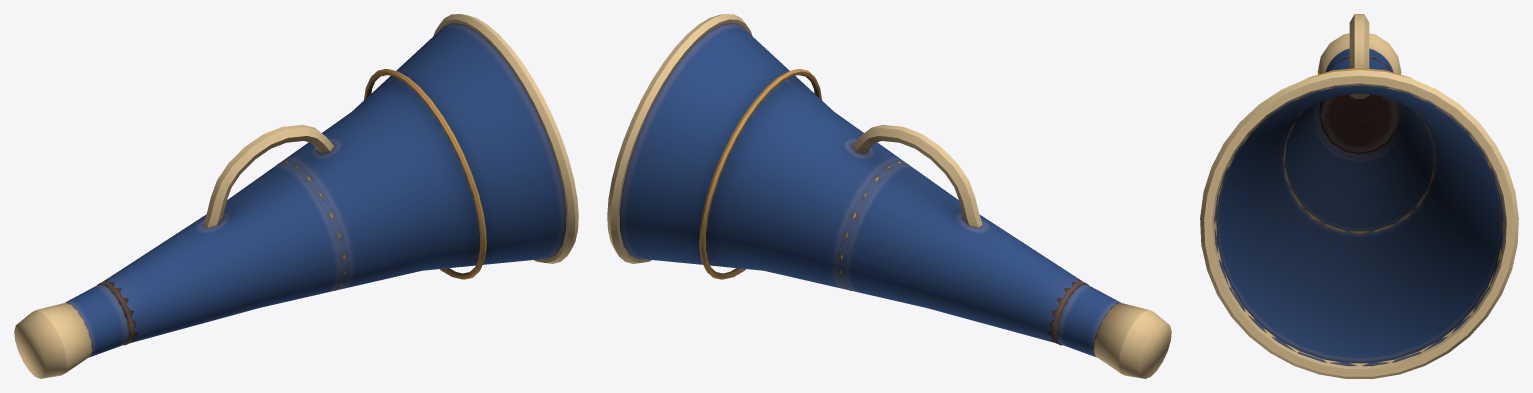
Rendered from Megaphone.fbx.
3 renders of one model, left to right at view 1: azimuth 30°, elevation 25°; view 2: azimuth 150°, elevation 25°; view 3: azimuth 270°, elevation 25°, orthographic. The views are drawn at different scales.
Visible parts, largest first — view 1: Megaphone; view 2: Megaphone; view 3: Megaphone.
Boxes of the visible parts, x1,y1,x2,y2 form: Megaphone: [14, 14, 578, 378]; Megaphone: [607, 14, 1171, 378]; Megaphone: [1200, 14, 1518, 378].
Size of the model in its own units: 214 by 98.79 by 98.91.
